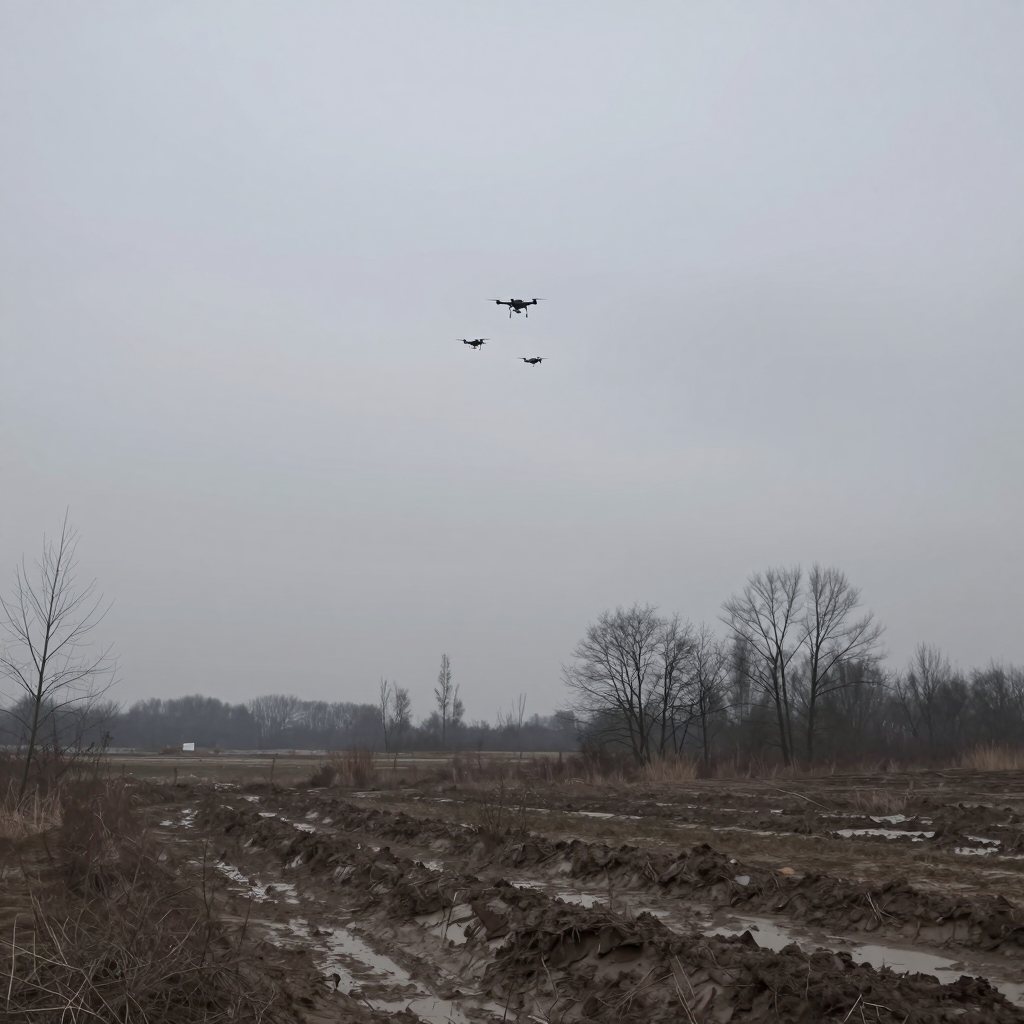drone: (487, 298, 546, 318), (455, 339, 491, 350), (517, 357, 548, 367)
